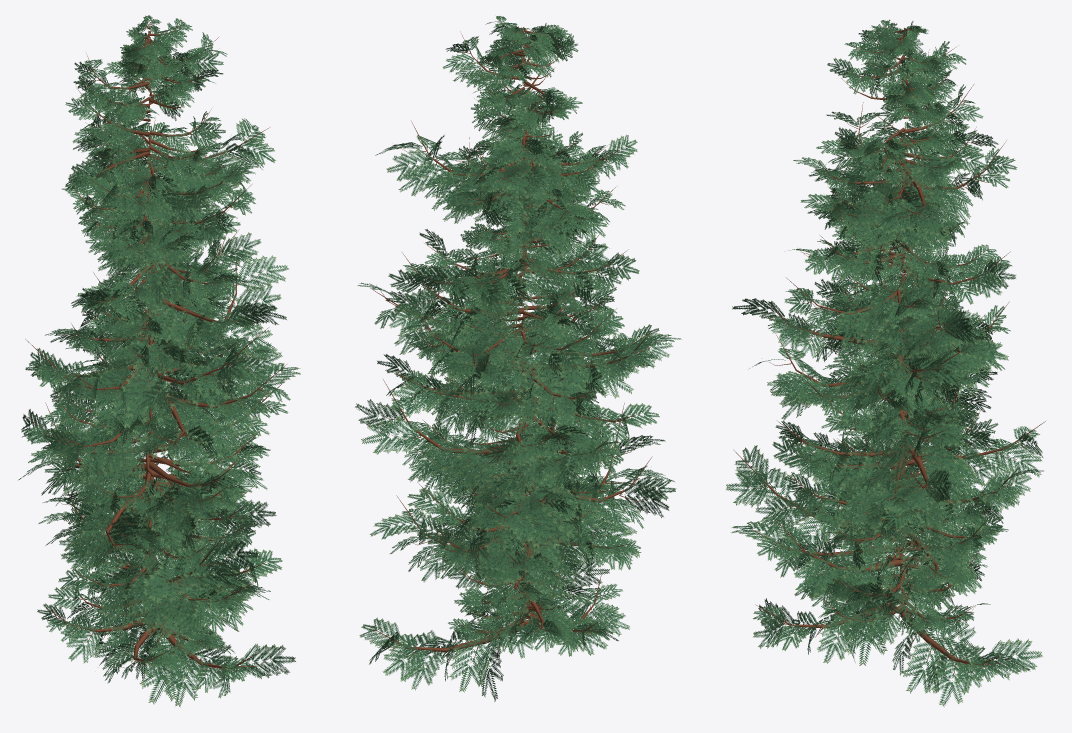
The model's file is forest-redwood-lod1.meshopt.glb.
The picture shows the model from 3 angles, left to right: view 1: azimuth 30°, elevation 25°; view 2: azimuth 150°, elevation 25°; view 3: azimuth 270°, elevation 25°; orthographic projection. The views are drawn at different scales.
Parts seen in each view (by area): view 1: redwood-crown; view 2: redwood-crown; view 3: redwood-crown.
Boxes of the visible parts, x1,y1,x2,y2 form: redwood-crown: (18, 15, 300, 707); redwood-crown: (355, 16, 681, 701); redwood-crown: (726, 19, 1045, 706).
Size of the model in its own units: 21.86 by 47.05 by 22.16.
4 materials, 3 textured.
